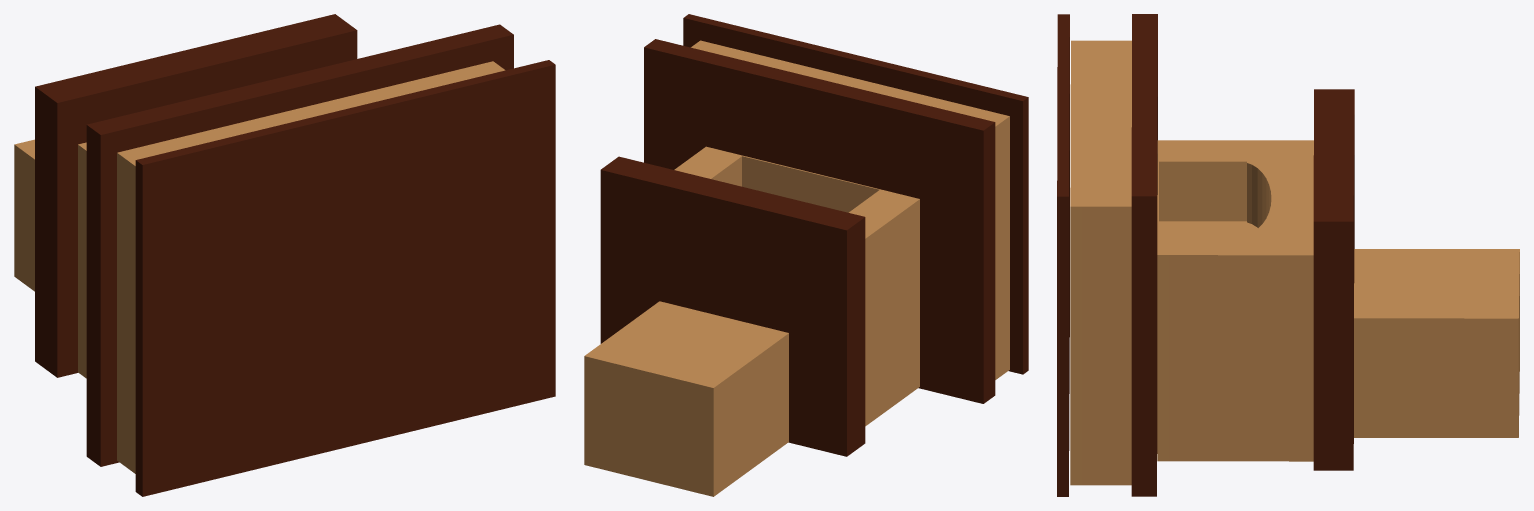
Rendered from fireplace.fbx.
The picture shows the model from 3 angles, left to right: view 1: azimuth 30°, elevation 25°; view 2: azimuth 150°, elevation 25°; view 3: azimuth 270°, elevation 25°; orthographic projection. The views are drawn at different scales.
Parts seen in each view (by area): view 1: Plane, Plane.002, Plane.001, Plane.003, Plane.005, Plane.004; view 2: Plane.001, Plane.002, Plane.005, Plane.004, Plane, Plane.003; view 3: Plane.004, Plane.005, Plane.003, Plane.002, Plane.001, Plane.
Boxes of the visible parts, x1,y1,x2,y2 form: Plane: (135,60,555,496); Plane.002: (35,14,357,377); Plane.001: (86,24,513,466); Plane.003: (117,61,505,473); Plane.005: (14,139,34,291); Plane.004: (78,142,86,378); Plane.001: (644,39,995,403); Plane.002: (600,156,865,456); Plane.005: (584,301,788,496); Plane.004: (674,146,919,426); Plane: (683,14,1028,374); Plane.003: (691,40,1009,379); Plane.004: (1157,140,1313,461); Plane.005: (1354,249,1519,437); Plane.003: (1070,40,1131,485); Plane.002: (1313,89,1354,470); Plane.001: (1131,14,1157,496); Plane: (1057,14,1069,496).
Bounding box in the file's own units: 915 × 702 × 980.
